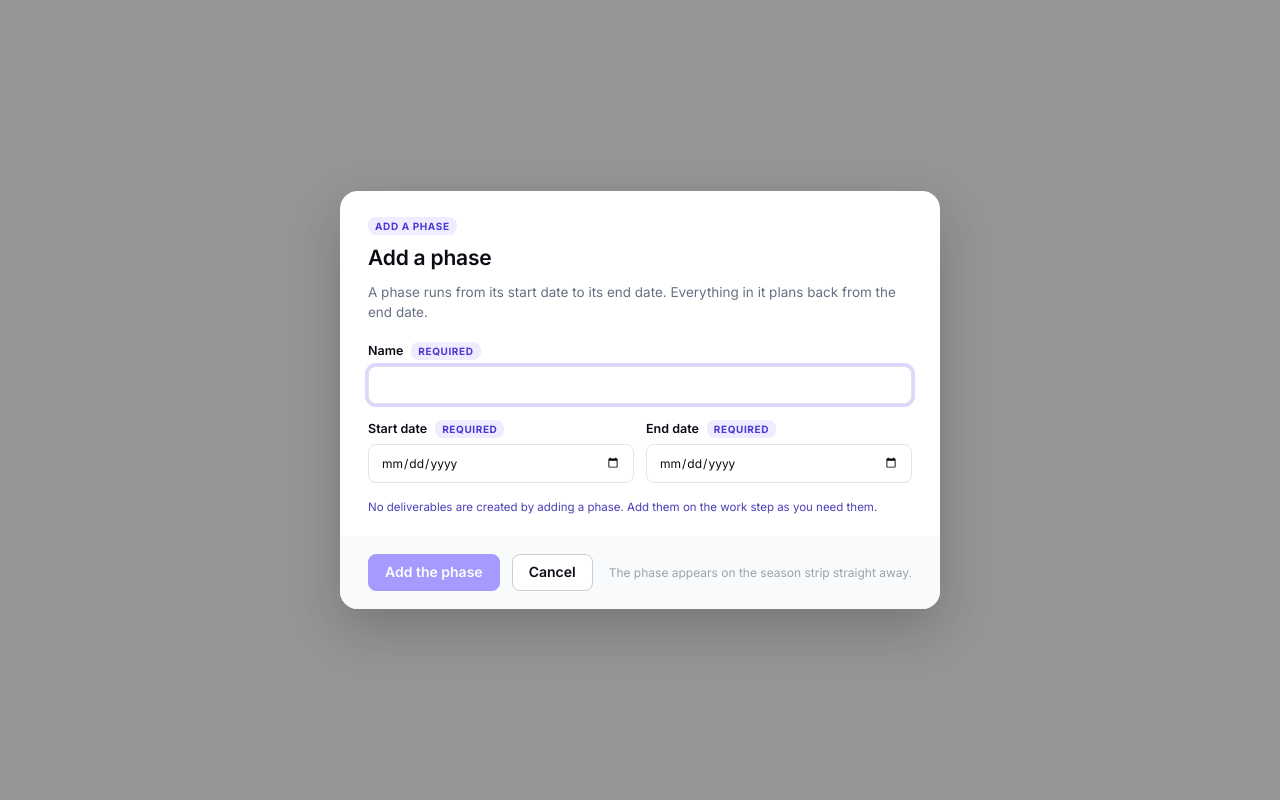
Test: AddPhaseDialog (CB-v3-P1) › asks for the start of the first phase of a season
Expected: the date field with test id "add-phase-starts" is empty, [368,444,634,483]
Type "Pre-Launch" into the field with test id "add-phase-name" at (640, 385), box [368,366,912,404]
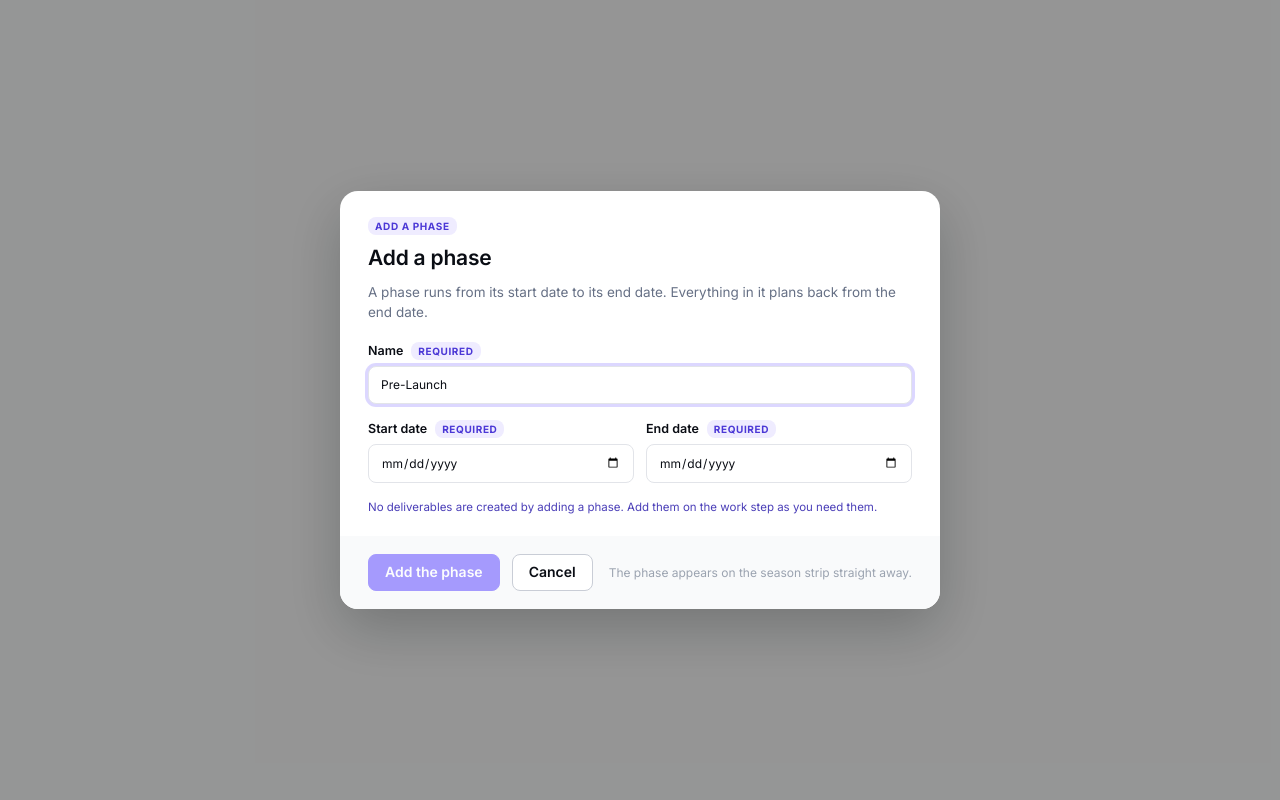
Type "2026-09-18" into the date field with test id "add-phase-date" at (779, 463), box [646,444,912,483]
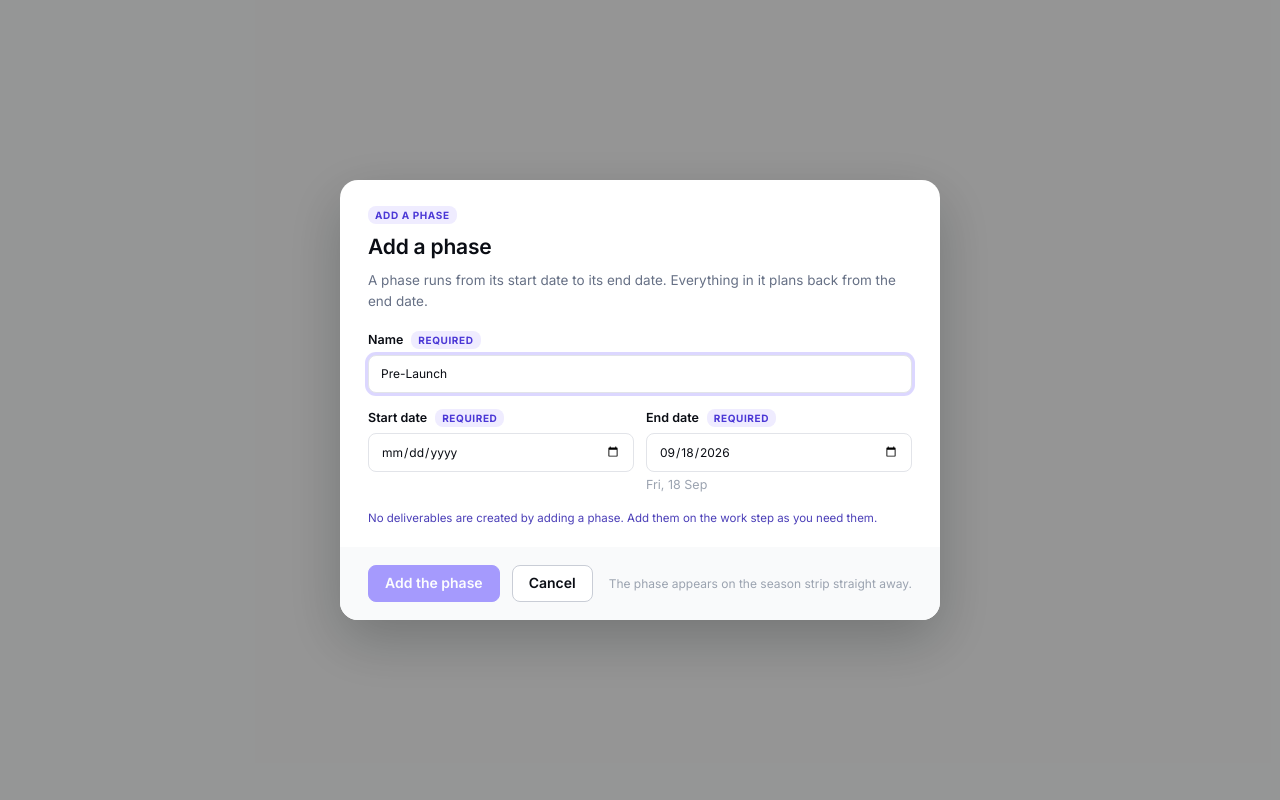
Expected: the button with test id "add-phase-submit" is disabled, [368,565,500,602]
Type "2026-09-12" into the date field with test id "add-phase-starts" at (501, 452), box [368,433,634,472]
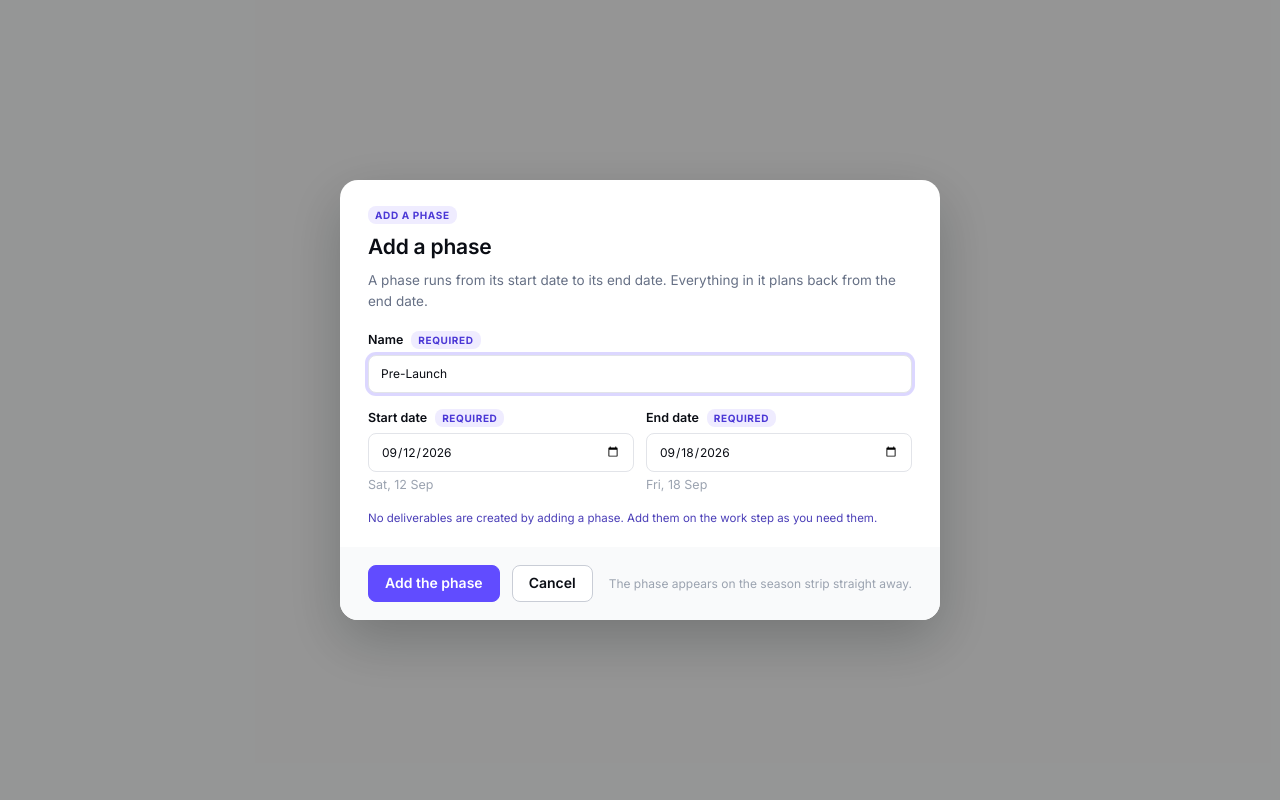
Expected: the button with test id "add-phase-submit" is enabled, [368,565,500,602]
